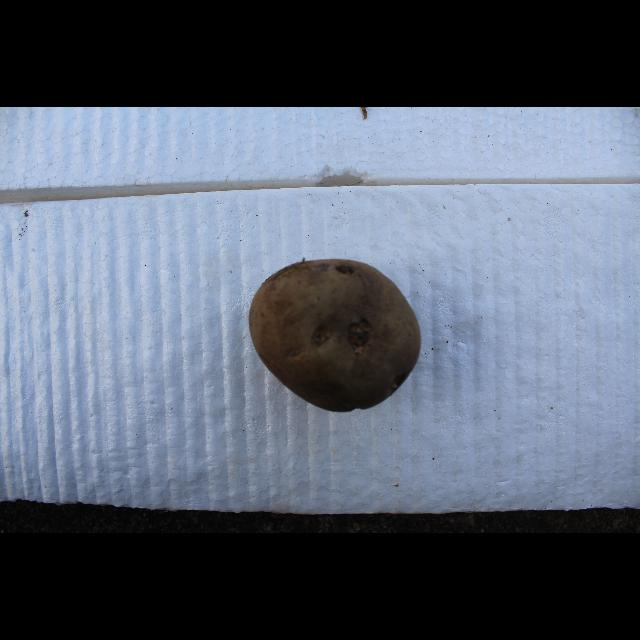Diseased-fungal potato: (215, 224, 395, 386)
